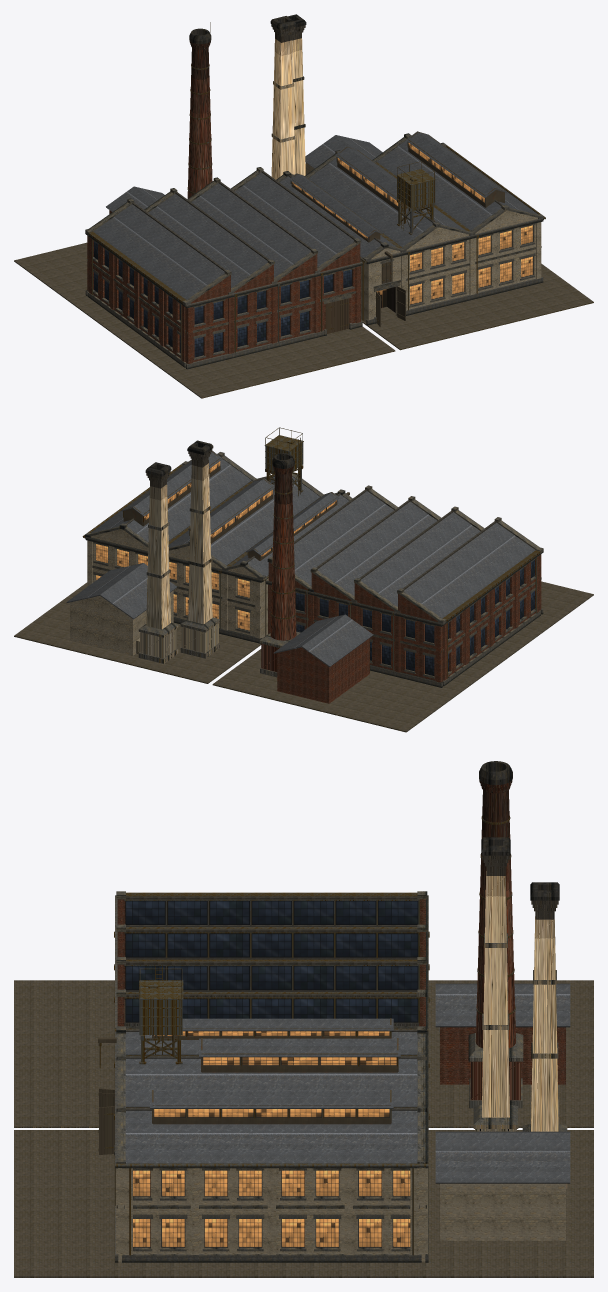
Rendered from works-set-factories.glb.
The picture shows the model from 3 angles, top to bottom: view 1: azimuth 30°, elevation 25°; view 2: azimuth 150°, elevation 25°; view 3: azimuth 270°, elevation 25°; orthographic projection. The views are drawn at different scales.
Visible parts, largest first — view 1: no-1-mill-roof, no-2-mill-roof, no-1-mill-walls, no-1-yard-setts, no-1-mill-stonework, no-2-mill-walls, no-2-yard-setts, no-2-mill-stonework, no-1-chimney, no-2-chimney-a, no-2-chimney-b, no-2-mill-timber (+6 smaller); view 2: no-1-mill-roof, no-1-yard-setts, no-2-mill-roof, no-1-mill-walls, no-1-boiler-house-building, no-1-mill-stonework, no-2-boiler-house-building, no-2-chimney-a, no-2-yard-setts, no-2-chimney-b, no-1-chimney, no-2-mill-walls (+6 smaller); view 3: no-2-mill-roof, no-2-yard-setts, no-1-yard-setts, no-2-boiler-house-building, no-2-mill-walls, no-2-mill-stonework, no-2-chimney-a, no-1-mill-roof, no-1-mill-ironwork, no-1-chimney, no-2-chimney-b, no-1-boiler-house-building (+42 smaller).
Boxes of the visible parts, x1,y1,x2,y2 form: no-1-mill-roof: (93,171,355,299); no-2-mill-roof: (279,131,537,257); no-1-mill-walls: (87,236,360,363); no-1-yard-setts: (14,242,395,398); no-1-mill-stonework: (85,167,362,369); no-2-mill-walls: (360,210,541,322); no-2-yard-setts: (361,263,593,350); no-2-mill-stonework: (276,133,543,325); no-1-chimney: (187,22,212,198); no-2-chimney-a: (270,16,296,179); no-2-chimney-b: (288,14,306,175); no-2-mill-timber: (291,131,504,283); no-1-mill-roof: (294,489,535,618); no-1-yard-setts: (212,581,593,732); no-2-mill-roof: (91,451,348,576); no-1-mill-walls: (268,554,541,682); no-1-boiler-house-building: (274,614,373,703); no-1-mill-stonework: (266,485,543,687); no-2-boiler-house-building: (66,563,176,655); no-2-chimney-a: (180,440,219,658); no-2-yard-setts: (14,582,261,683); no-2-chimney-b: (138,462,178,663); no-1-chimney: (259,446,300,677); no-2-mill-walls: (87,529,268,638); no-2-mill-roof: (125,1018,417,1163); no-2-yard-setts: (14,1130,593,1277); no-1-yard-setts: (14,980,593,1127); no-2-boiler-house-building: (435,1131,570,1240); no-2-mill-walls: (115,1168,427,1261); no-2-mill-stonework: (114,1026,428,1262); no-2-chimney-a: (473,837,518,1131); no-1-mill-roof: (124,896,418,1026); no-1-mill-ironwork: (114,892,429,1023); no-1-chimney: (468,761,523,1108); no-2-chimney-b: (522,882,567,1188); no-1-boiler-house-building: (435,983,570,1084).
Size of the model in its own units: 50 by 27.1 by 41.4.
36 materials, 36 textured.
